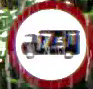Heavy Vehicles: (7, 0, 92, 88)
